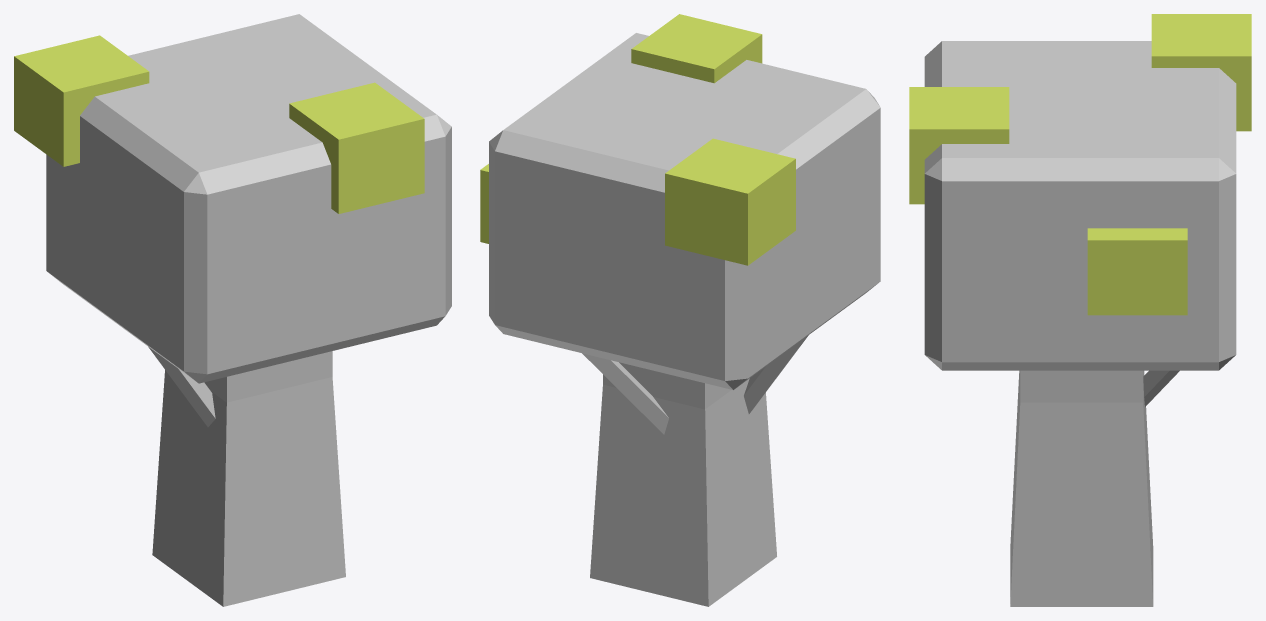
Rendered from Copac-4.fbx.
3 views of the same model, side by side, from view 1: azimuth 30°, elevation 25°; view 2: azimuth 150°, elevation 25°; view 3: azimuth 270°, elevation 25° (orthographic). The views are drawn at different scales.
Visible parts, largest first — view 1: Cube.009; view 2: Cube.009; view 3: Cube.009.
Boxes of the visible parts, x1,y1,x2,y2 form: Cube.009: (14, 14, 451, 606); Cube.009: (480, 14, 880, 606); Cube.009: (909, 14, 1251, 606).
Bounding box in the file's own units: 1.97 × 2.98 × 1.88.
